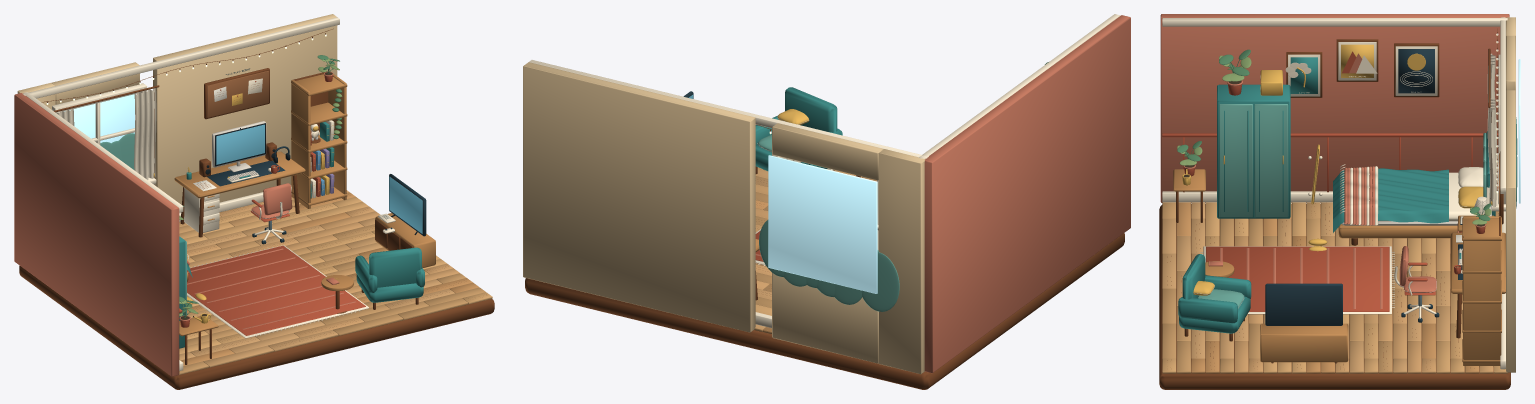
The model's file is bedroom.glb.
3 views of the same model, side by side, from view 1: azimuth 30°, elevation 25°; view 2: azimuth 150°, elevation 25°; view 3: azimuth 270°, elevation 25° (orthographic). The views are drawn at different scales.
Visible parts, largest first — view 1: Architecture_rose, Architecture_butter, Architecture_clay, Architecture_walnut, Architecture_cream, Bookshelf_oak, Lounge_teal, Sky, Curtain cloth.001, Desk_oak, Board_edge, ComputerSurface (+30 smaller); view 2: Architecture_butter, Architecture_rose, Sky, Architecture_walnut, Architecture_cream, Architecture_sea, Lounge_teal; view 3: Architecture_rose, Architecture_clay, Architecture_walnut, Architecture_cream, Bookshelf_oak, Quilt, Inset door.001, Inset door, Architecture_butter, Lounge_teal, TV housing, Media console (+63 smaller).
Boxes of the visible parts, box(x1,y1,x2,y2) form: Architecture_rose: box(14, 93, 355, 376); Architecture_butter: box(17, 14, 337, 204); Architecture_clay: box(179, 245, 365, 335); Architecture_walnut: box(19, 28, 494, 389); Architecture_cream: box(23, 17, 368, 370); Bookshelf_oak: box(291, 71, 347, 208); Lounge_teal: box(355, 247, 424, 302); Sky: box(64, 94, 134, 142); Curtain cloth.001: box(134, 88, 156, 179); Desk_oak: box(174, 151, 305, 220); Board_edge: box(207, 71, 268, 117); ComputerSurface: box(216, 124, 264, 164); Architecture_butter: box(523, 62, 925, 374); Architecture_rose: box(755, 15, 1130, 373); Sky: box(768, 155, 877, 293); Architecture_walnut: box(525, 124, 1124, 389); Architecture_cream: box(529, 14, 1120, 328); Architecture_sea: box(759, 220, 899, 311); Lounge_teal: box(755, 87, 842, 171); Architecture_rose: box(1160, 14, 1509, 308); Architecture_clay: box(1162, 133, 1498, 311); Architecture_walnut: box(1159, 28, 1510, 389); Architecture_cream: box(1162, 17, 1507, 369); Bookshelf_oak: box(1462, 216, 1501, 366); Quilt: box(1333, 168, 1448, 232); Inset door.001: box(1254, 104, 1288, 217); Inset door: box(1219, 104, 1252, 217); Architecture_butter: box(1506, 17, 1515, 372); Lounge_teal: box(1178, 254, 1251, 333); TV housing: box(1265, 283, 1342, 325); Media console: box(1260, 323, 1348, 362).
Size of the model in its own units: 5.75 by 3.11 by 5.01.
